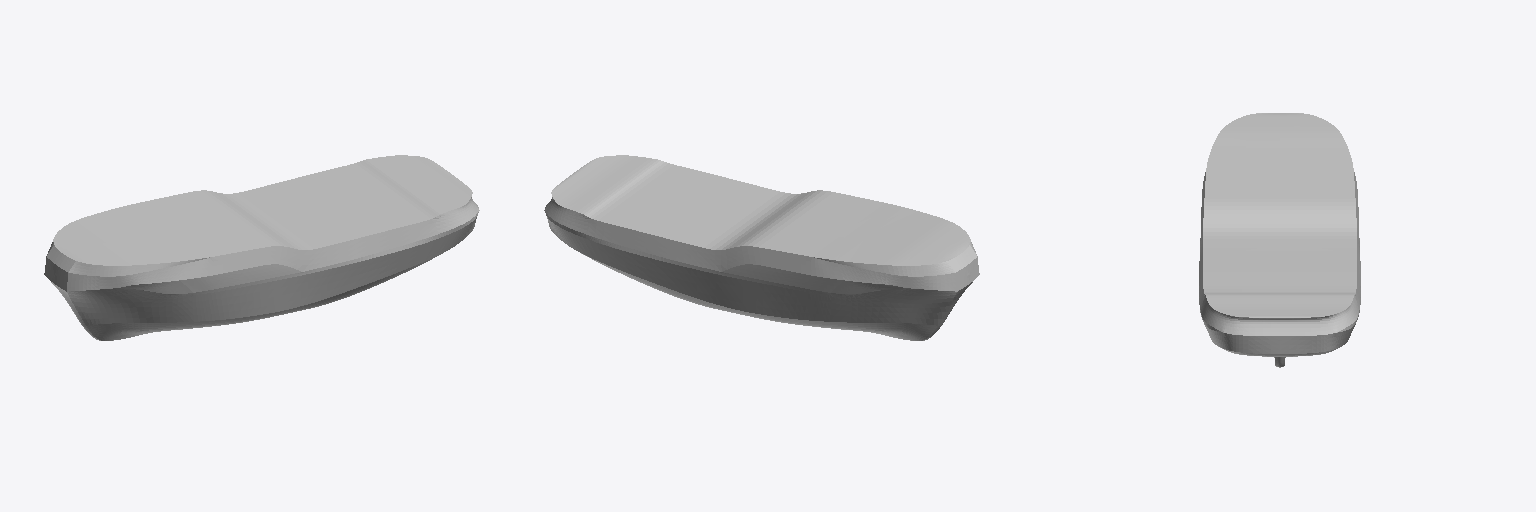
Rendered from cs_voyager_high_poly.obj.
3 renders of one model, left to right at view 1: azimuth 30°, elevation 25°; view 2: azimuth 150°, elevation 25°; view 3: azimuth 270°, elevation 25°, orthographic.
Visible parts, largest first — view 1: cs_voyager; view 2: cs_voyager; view 3: cs_voyager.
Boxes of the visible parts, x1=… form: cs_voyager: x1=44, y1=155, x2=479, y2=340; cs_voyager: x1=544, y1=155, x2=979, y2=340; cs_voyager: x1=1199, y1=113, x2=1360, y2=367.
Bounding box in the file's own units: 0.9912 × 0.2349 × 0.3459.